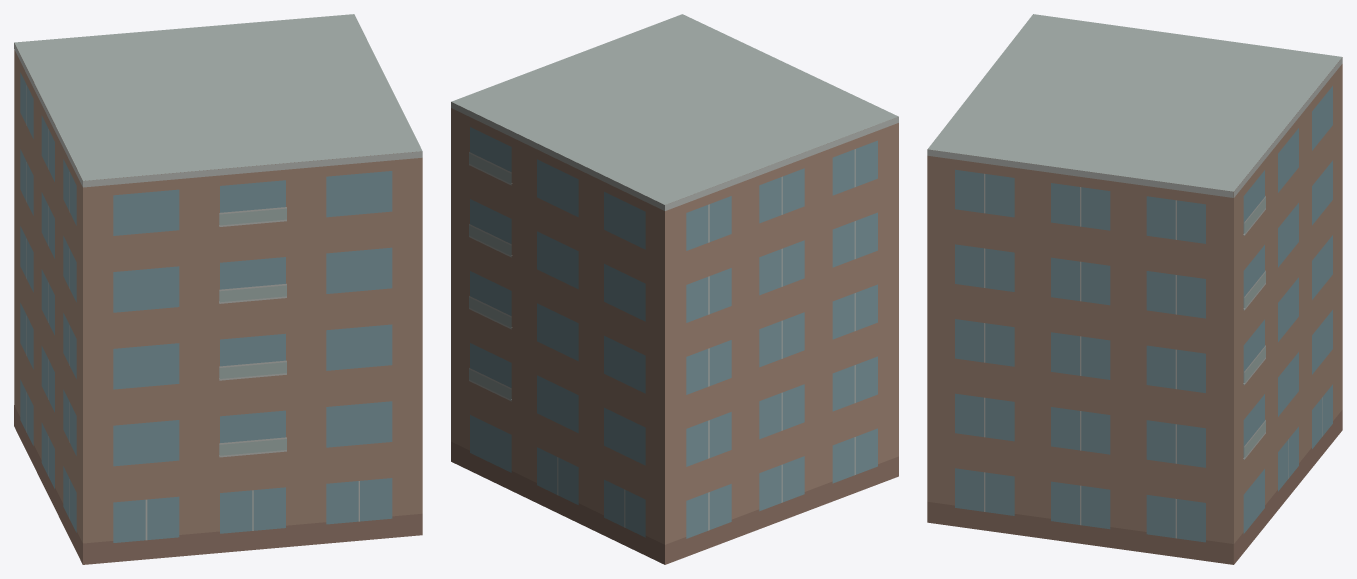
Rendered from survey-upis-32875050.glb.
3 renders of one model, left to right at view 1: azimuth 30°, elevation 25°; view 2: azimuth 150°, elevation 25°; view 3: azimuth 270°, elevation 25°, orthographic. The views are drawn at different scales.
Visible parts, largest first — view 1: survey-upis-32875050.tmp; view 2: survey-upis-32875050.tmp; view 3: survey-upis-32875050.tmp.
Part boxes in pixels (x1=…): survey-upis-32875050.tmp: x1=14, y1=14, x2=422, y2=564; survey-upis-32875050.tmp: x1=451, y1=14, x2=898, y2=564; survey-upis-32875050.tmp: x1=927, y1=14, x2=1342, y2=564.
Size of the model in its own units: 14.61 by 14.3 by 14.43.
